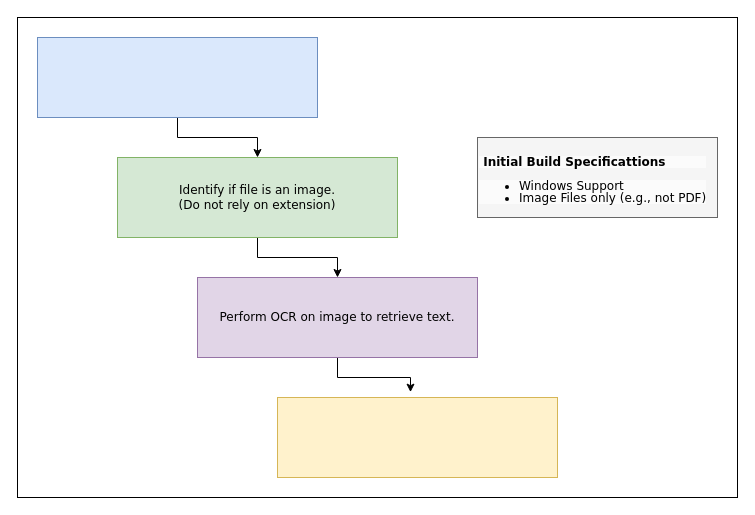
Image size: 755x515. Some labels were removed from this diagram. Here are the shapes that lost their labels. From the top down, the centre of each, then its label:
(x=177, y=77): Get files from a directory path recursively.
(x=417, y=437): Check text for keywords. If keyword matched, print file path and text content.
